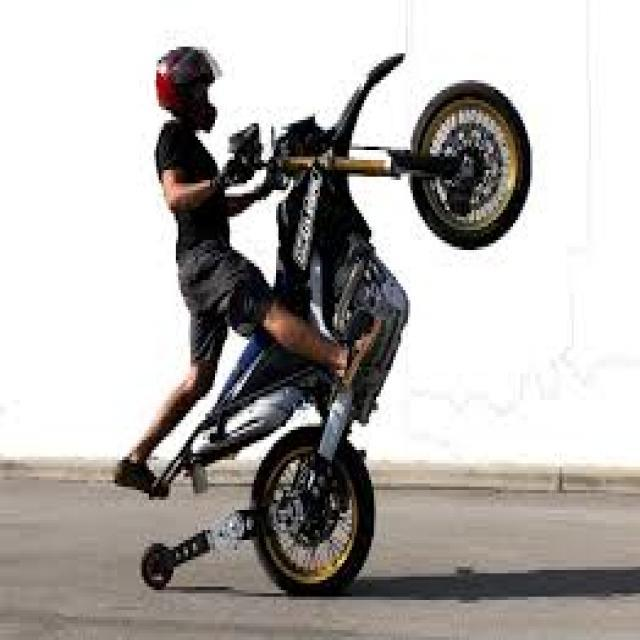Wheeling: (145, 22, 512, 622)
